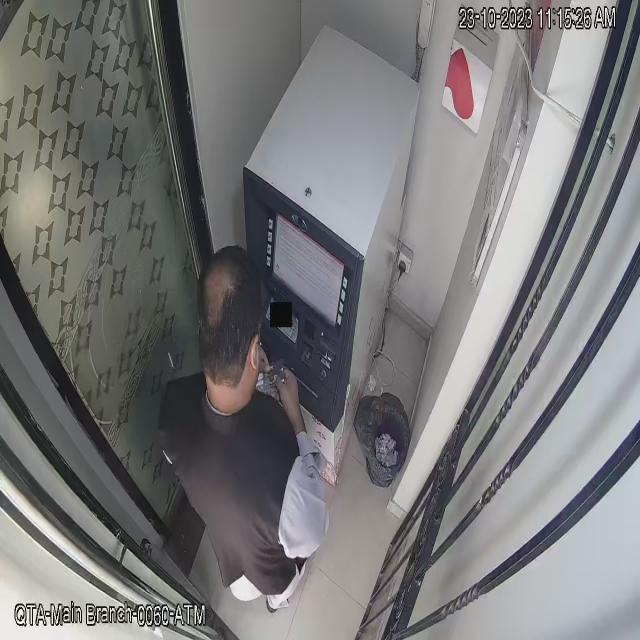atm-card: (266, 354, 288, 391)
